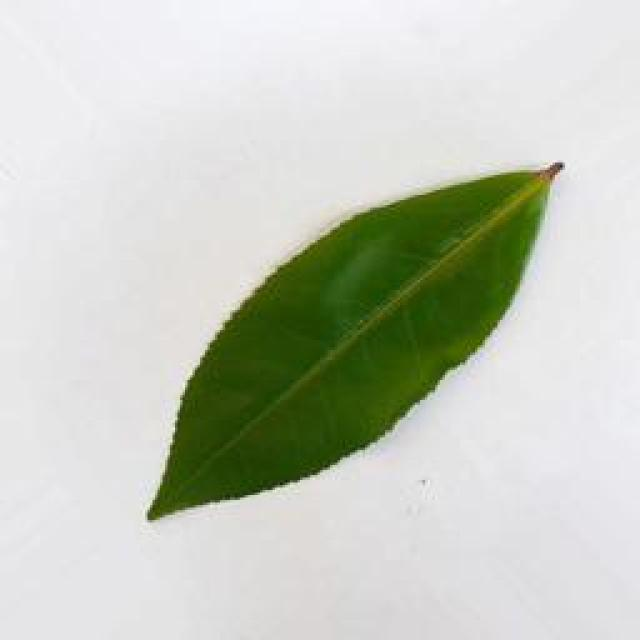Healthy: (143, 162, 564, 520)
